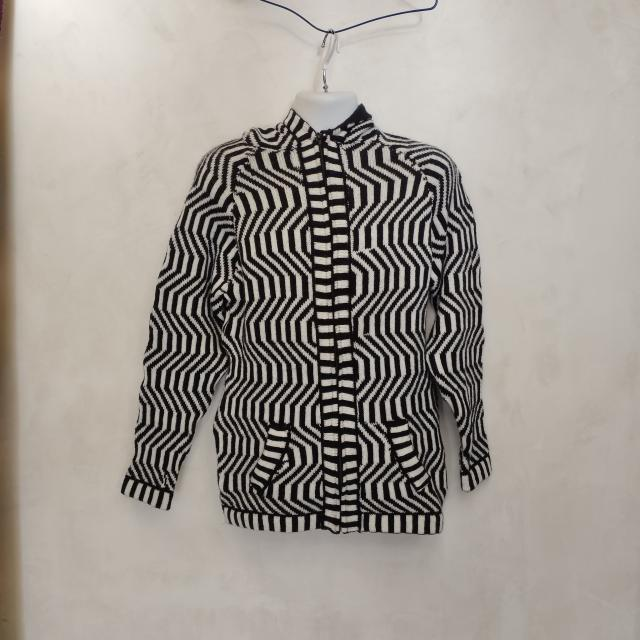Chompa: (120, 94, 492, 536)
